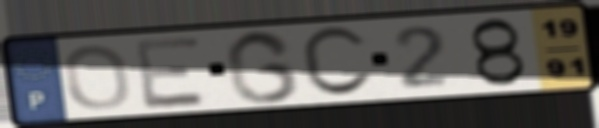2: (392, 23, 454, 92)
8: (468, 16, 529, 88)
C: (297, 24, 378, 101)
E: (131, 33, 211, 111)
G: (222, 27, 303, 106)
O: (61, 42, 134, 112)
